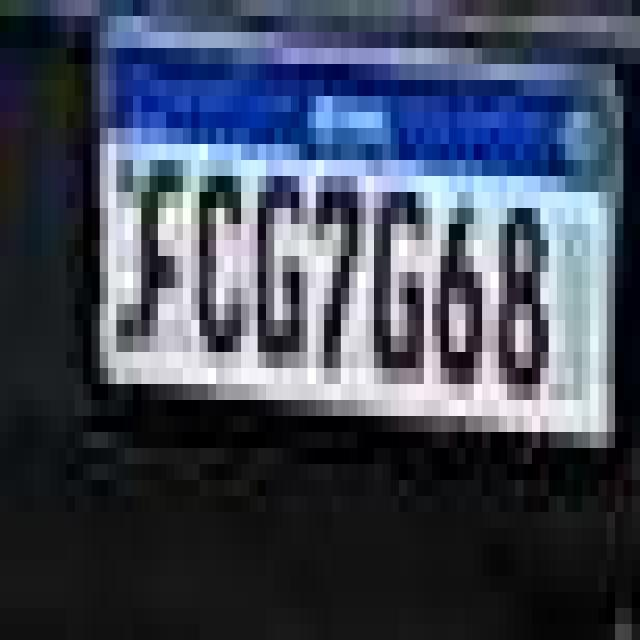6: (435, 178, 489, 396)
7: (310, 168, 363, 384)
8: (493, 186, 551, 400)
C: (192, 165, 252, 362)
F: (132, 146, 181, 360)
G: (371, 171, 432, 391), (252, 162, 310, 370)
